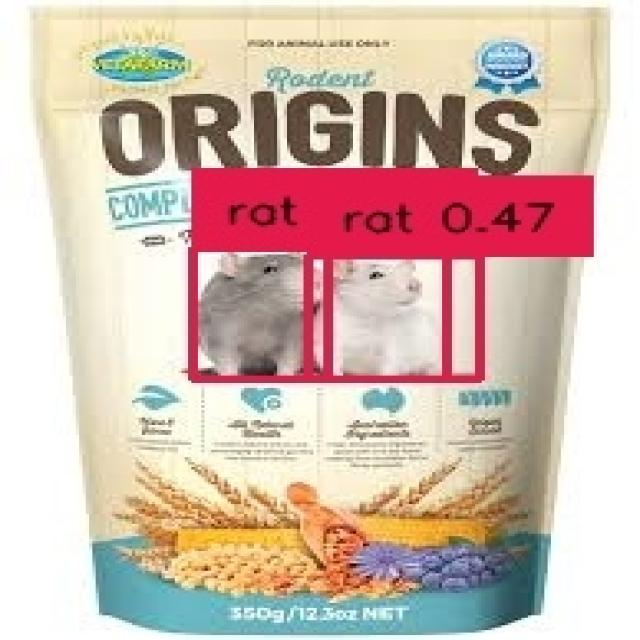rat: (304, 252, 475, 376), (188, 244, 323, 376), (304, 252, 442, 376)
